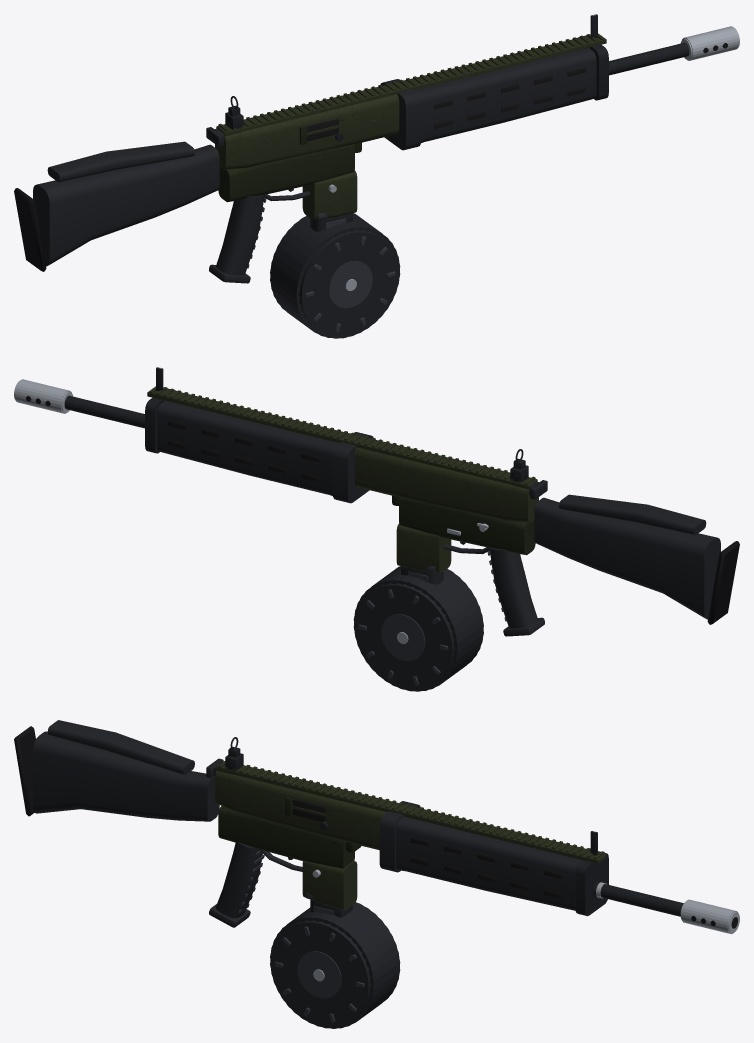
3 renders of one model, top to bottom at view 1: azimuth 30°, elevation 25°; view 2: azimuth 150°, elevation 25°; view 3: azimuth 330°, elevation 25°, orthographic.
Visible parts, largest first — view 1: br12_body, br12_stock, mag_drum, iron_sights; view 2: br12_body, br12_stock, mag_drum, iron_sights; view 3: br12_body, br12_stock, mag_drum, iron_sights.
Part boxes in pixels (x1=…): br12_body: x1=206, y1=26, x2=739, y2=283; br12_stock: x1=14, y1=141, x2=219, y2=271; mag_drum: x1=270, y1=213, x2=400, y2=338; iron_sights: x1=225, y1=14, x2=597, y2=129; br12_body: x1=14, y1=379, x2=547, y2=636; br12_stock: x1=534, y1=494, x2=739, y2=624; mag_drum: x1=353, y1=566, x2=483, y2=691; iron_sights: x1=156, y1=367, x2=528, y2=482; br12_body: x1=206, y1=758, x2=739, y2=934; br12_stock: x1=14, y1=720, x2=219, y2=821; mag_drum: x1=270, y1=893, x2=400, y2=1028; iron_sights: x1=225, y1=737, x2=597, y2=855.
Bounding box in the file's own units: 1.03 × 0.3517 × 0.082.
8 materials, 3 textured.
